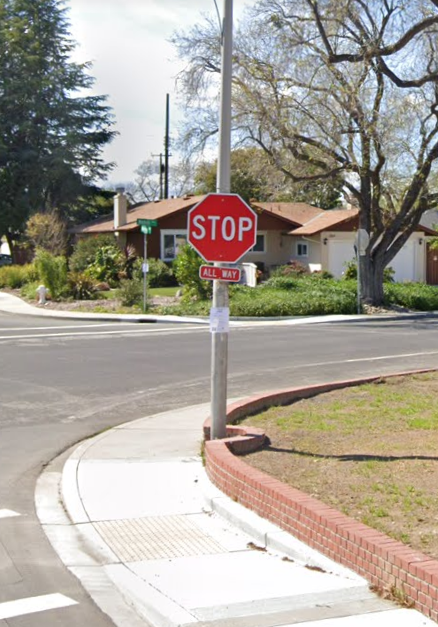stop_sign: (190, 193, 257, 262)
